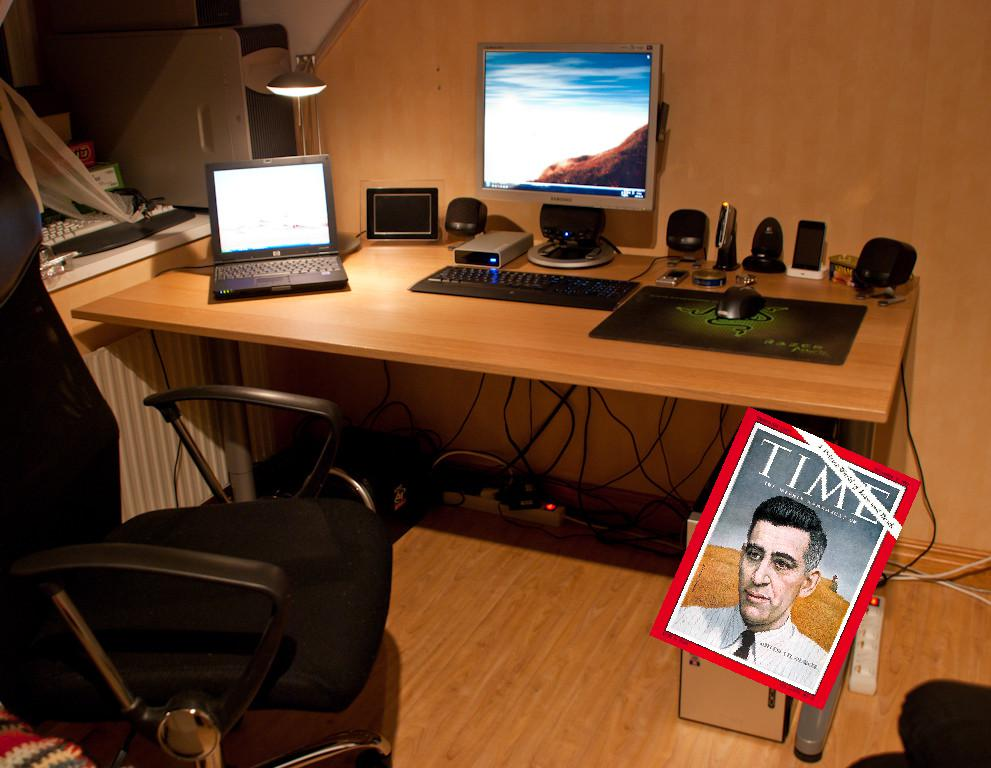times: (655, 402, 922, 708)
